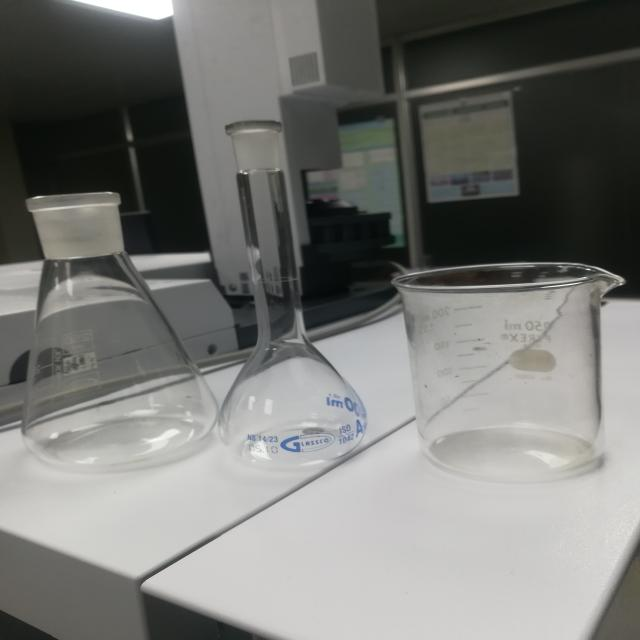Beaker: (377, 238, 640, 490)
Conical_Flask: (0, 176, 224, 482)
Volumetric_Flask: (190, 115, 400, 474)
